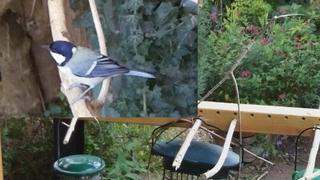great tit: (40, 40, 158, 106)
